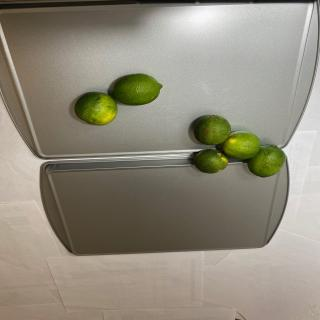Chilli: (193, 114, 286, 178)
Lemon: (111, 73, 162, 106), (74, 92, 118, 125), (247, 144, 286, 178), (193, 114, 231, 146), (221, 130, 261, 160), (194, 148, 228, 174)
